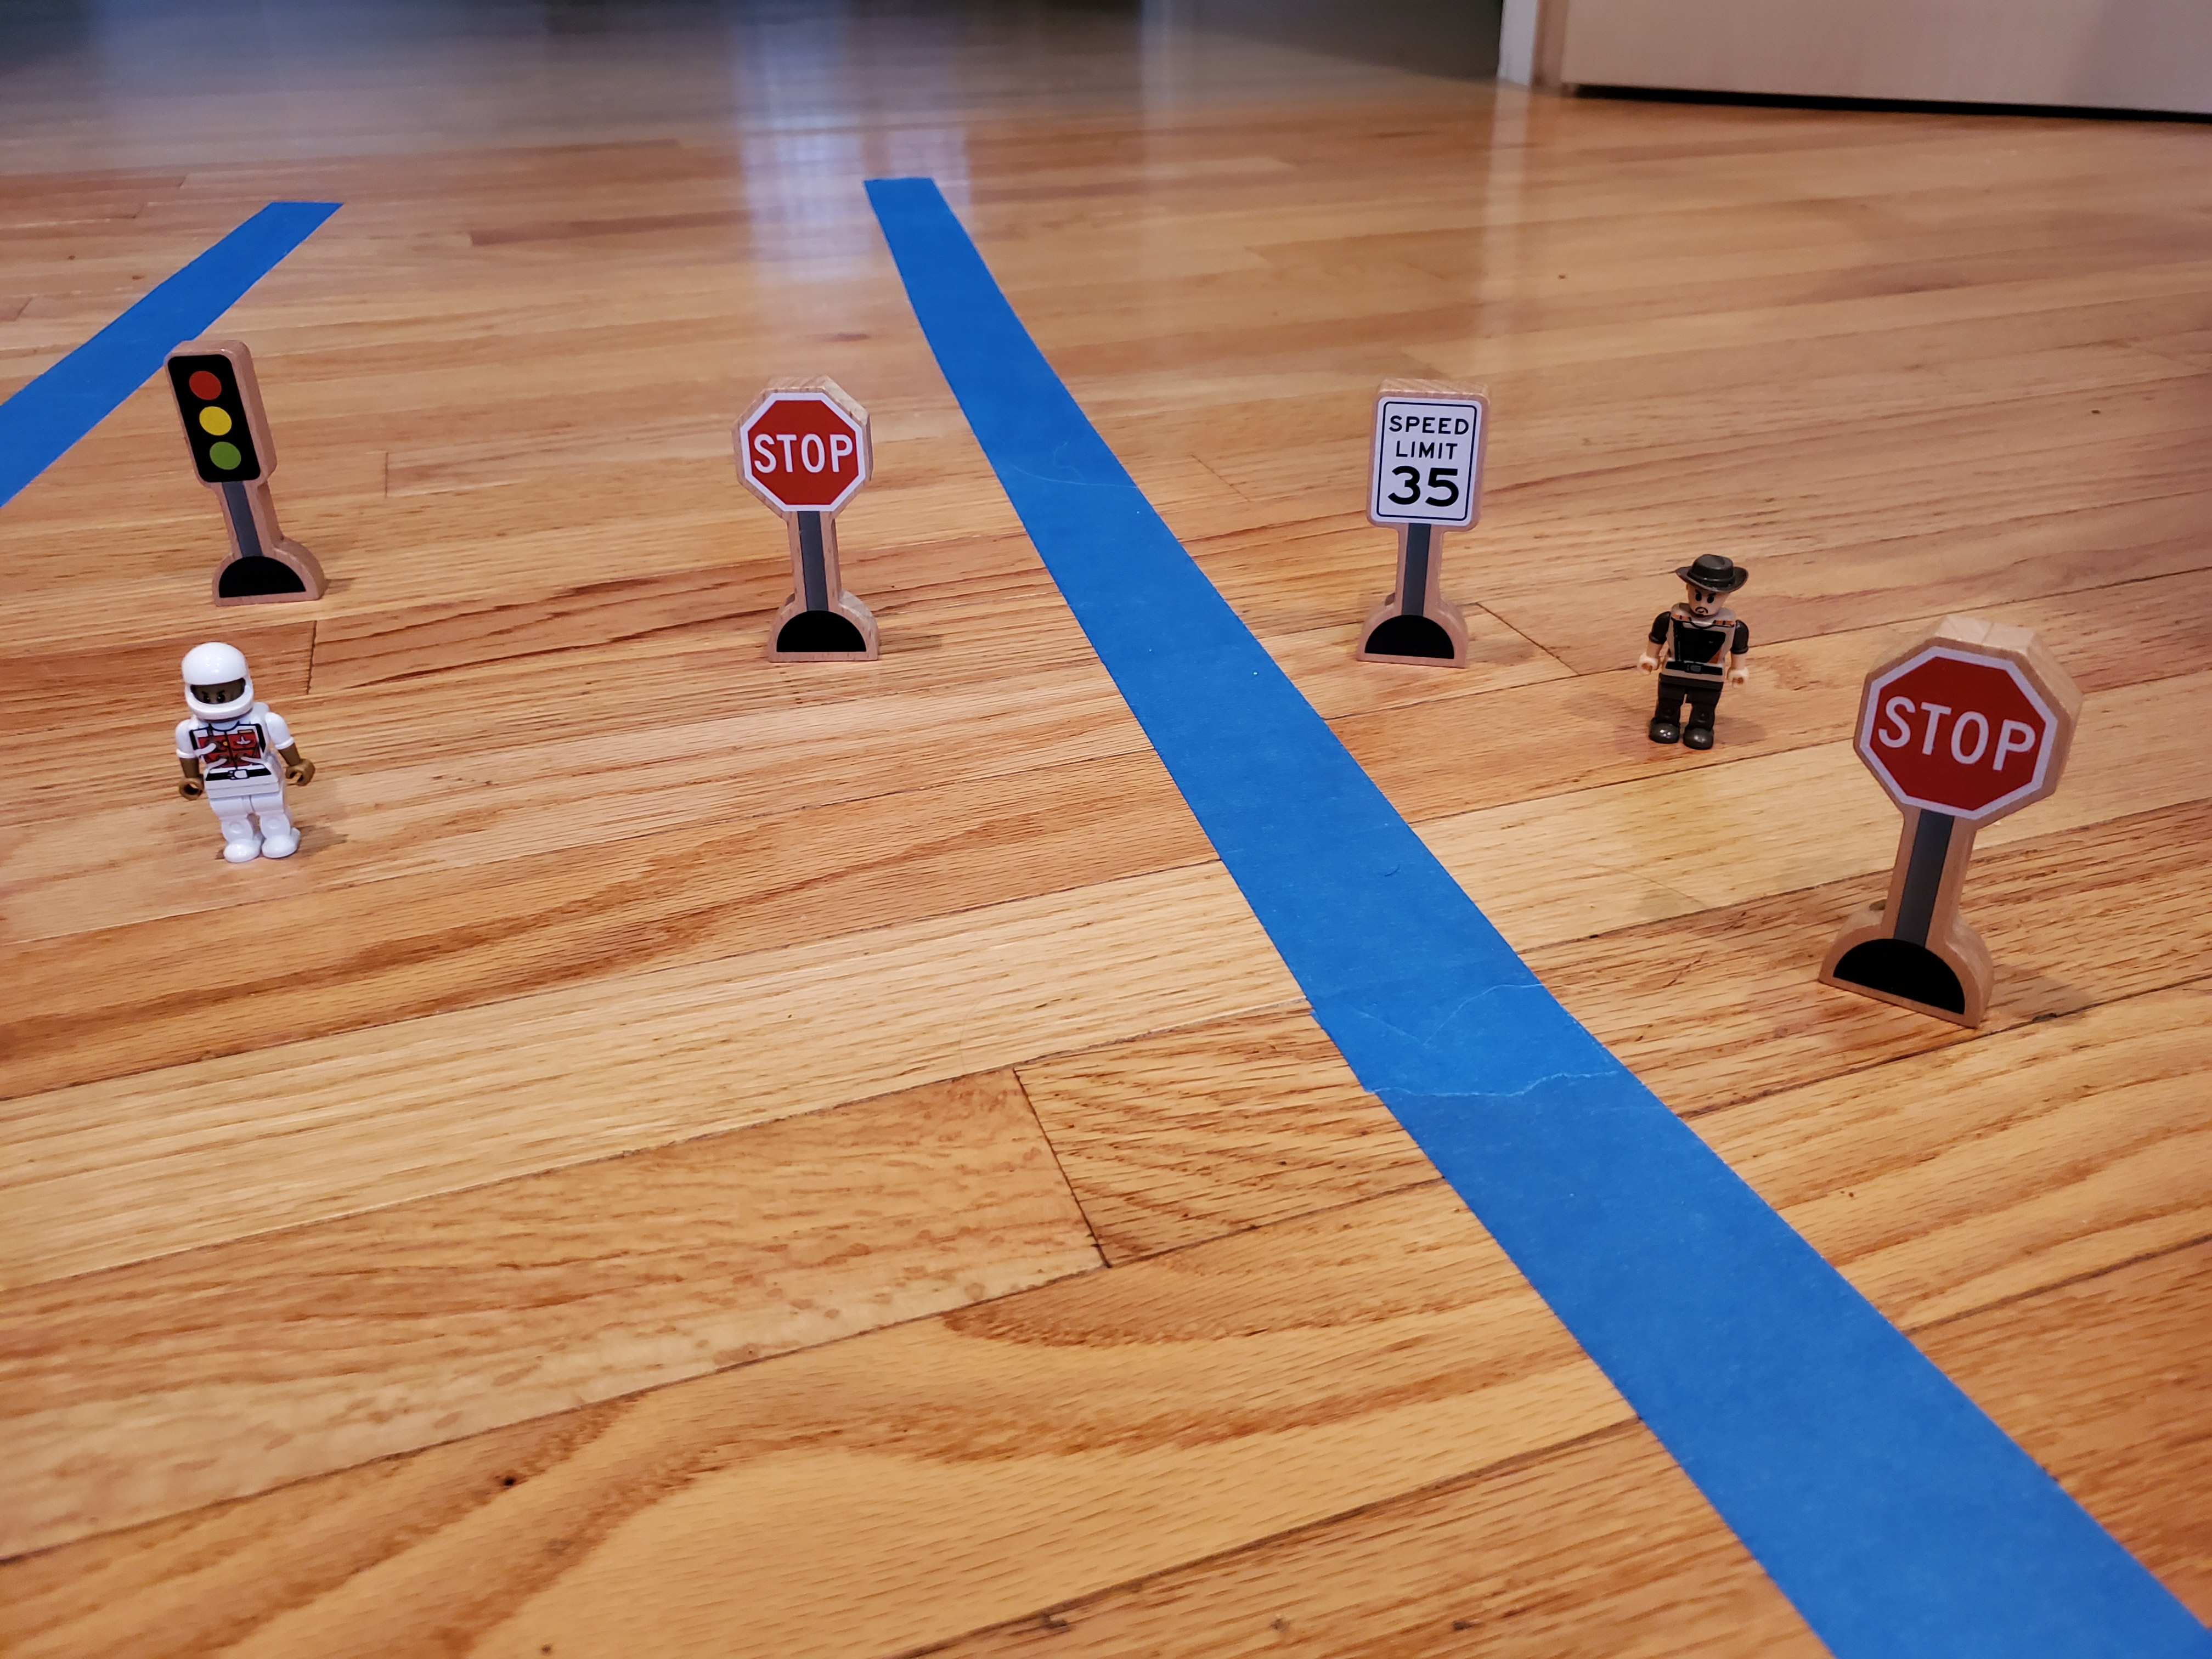Red Traffic Light: (155, 337, 280, 495)
Speed Limit 35: (1365, 376, 1493, 544)
Stop Sign: (1850, 601, 2086, 852), (715, 360, 887, 517)
person: (159, 640, 334, 881), (1644, 541, 1750, 758)
